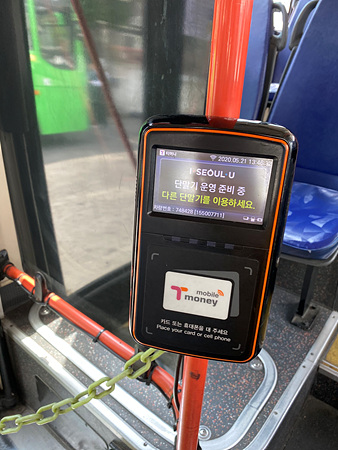terminal: (138, 123, 276, 359)
